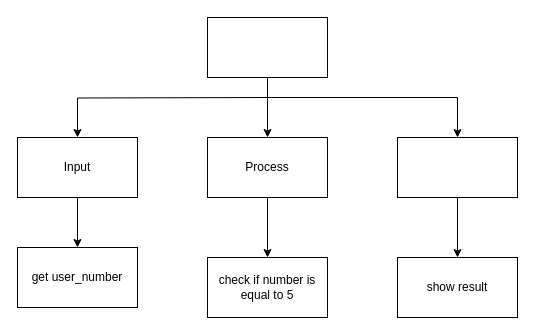
Some shapes in this 535 by 335 pixel diagram are drawn without their labels. Here are the shapes that lost their labels. From the top down, the centre of each, then its label:
(267,47): If Then
(457,167): Output
